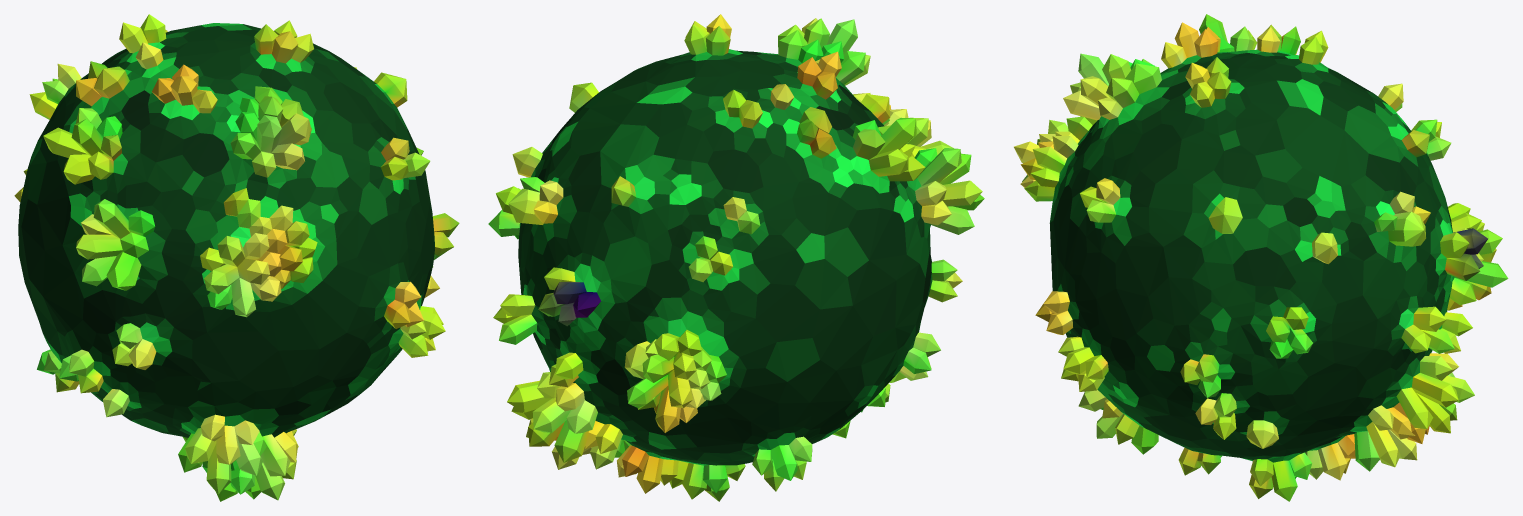
File: Crystal_planet_23.fbx
3 renders of one model, left to right at view 1: azimuth 30°, elevation 25°; view 2: azimuth 150°, elevation 25°; view 3: azimuth 270°, elevation 25°, orthographic. The views are drawn at different scales.
Visible parts, largest first — view 1: file6; view 2: file6; view 3: file6.
Part boxes in pixels (x1,y1,x2,y2): file6: [14, 14, 459, 501]; file6: [488, 14, 984, 501]; file6: [1014, 14, 1508, 501].
Size of the model in its own units: 2.3 by 2.35 by 2.44.
